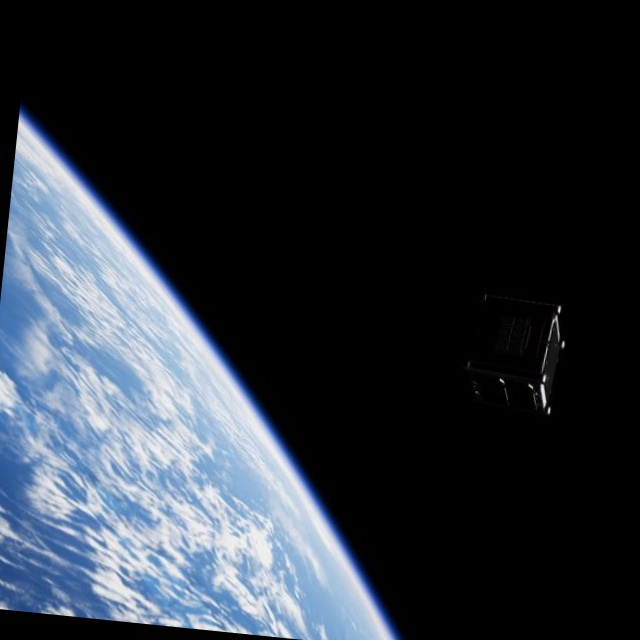satellite: (451, 287, 573, 426)
